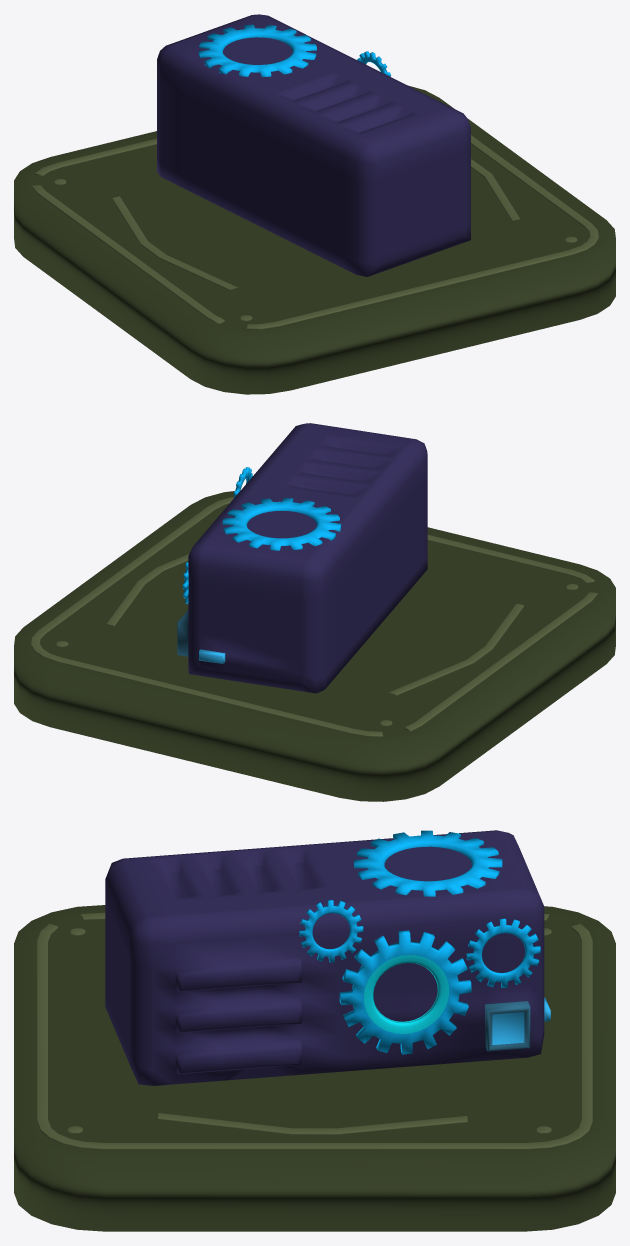
The picture shows the model from 3 angles, top to bottom: view 1: azimuth 30°, elevation 25°; view 2: azimuth 150°, elevation 25°; view 3: azimuth 270°, elevation 25°; orthographic projection. The views are drawn at different scales.
Visible parts, largest first — view 1: Cube.002, Cube, Circle.003; view 2: Cube.002, Cube, Circle.003; view 3: Cube.002, Cube, Circle.003.
Part boxes in pixels (left/top/right/bottom): Cube.002: left=14, top=85, right=615, bottom=394; Cube: left=157, top=14, right=470, bottom=276; Circle.003: left=198, top=24, right=390, bottom=77; Cube.002: left=14, top=491, right=615, bottom=801; Cube: left=177, top=423, right=427, bottom=693; Circle.003: left=182, top=467, right=341, bottom=604; Cube.002: left=14, top=905, right=615, bottom=1231; Cube: left=105, top=830, right=550, bottom=1085; Circle.003: left=299, top=830, right=540, bottom=1054.
Bounding box in the file's own units: 2 × 0.8912 × 2.
